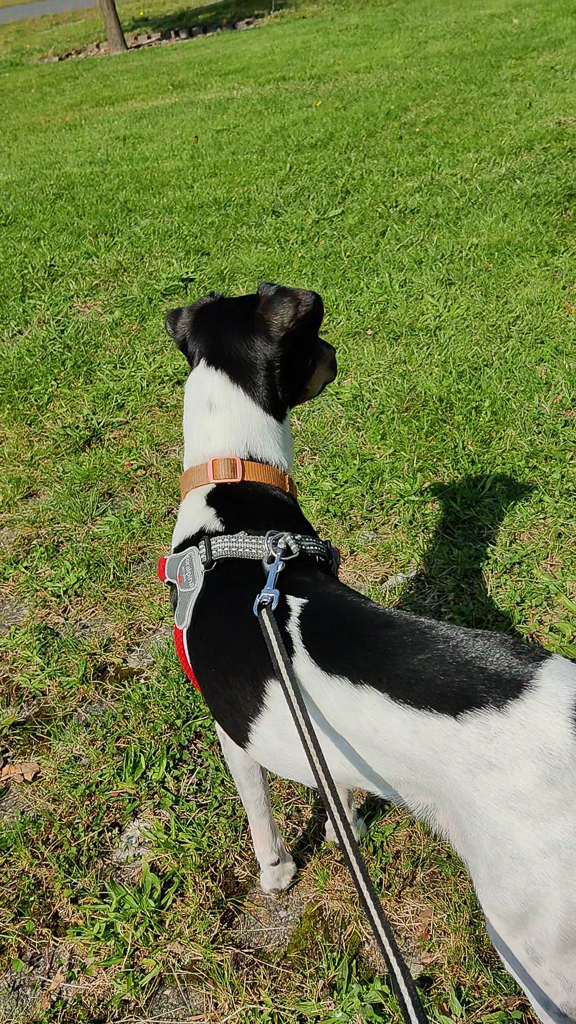Dog: (140, 254, 576, 1024)
